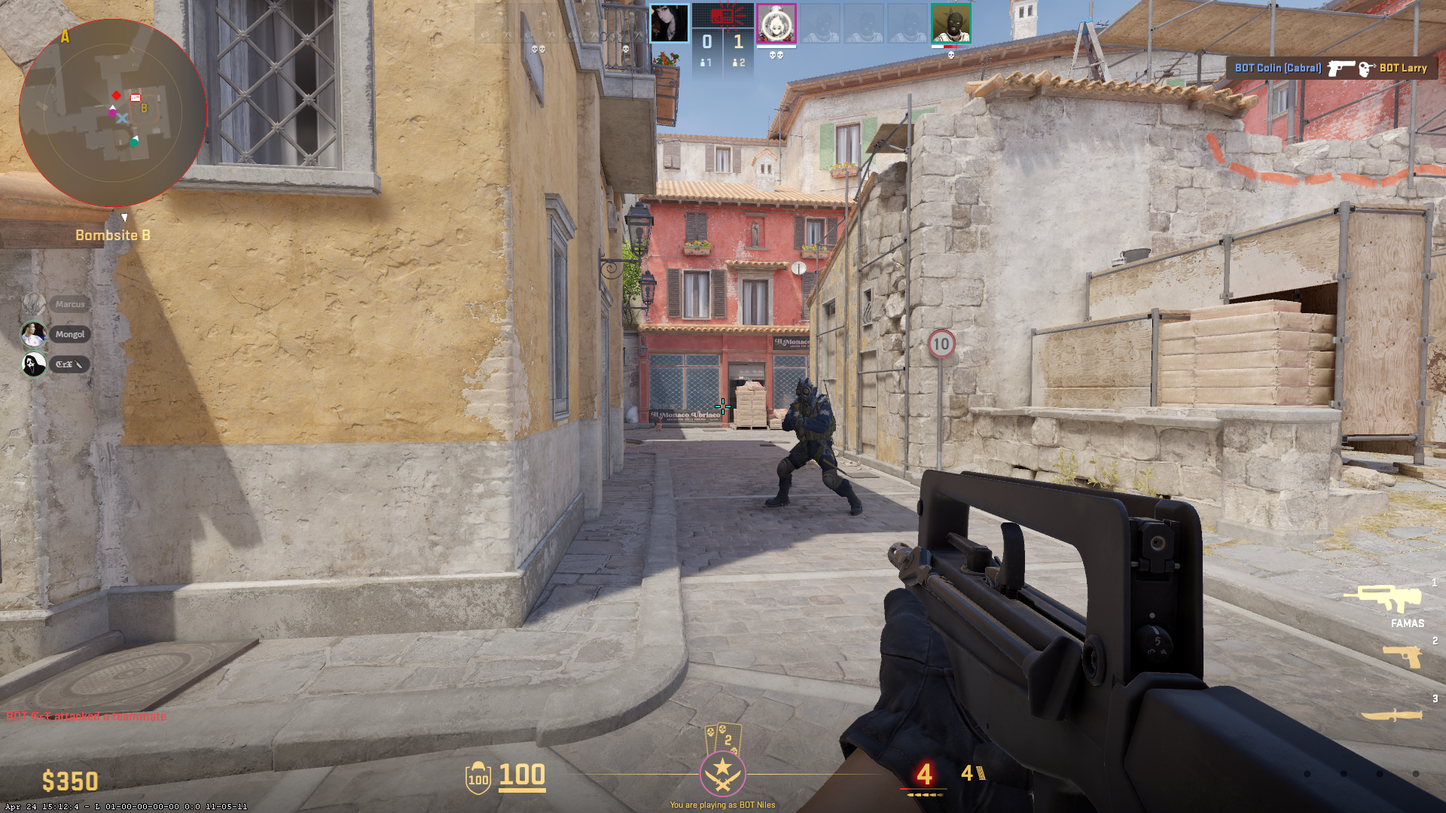CT: (765, 379, 862, 515)
